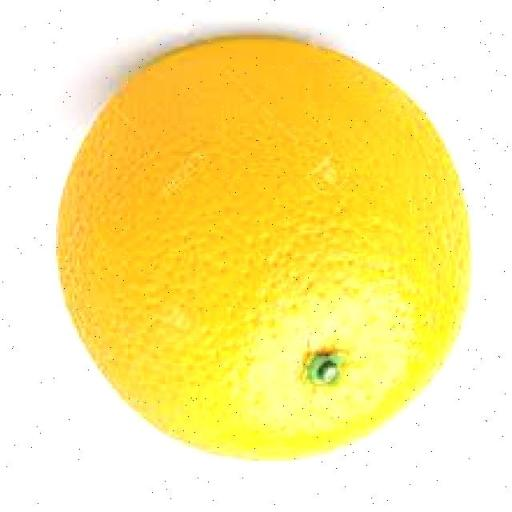Qua Tuoi: (29, 0, 483, 479)
